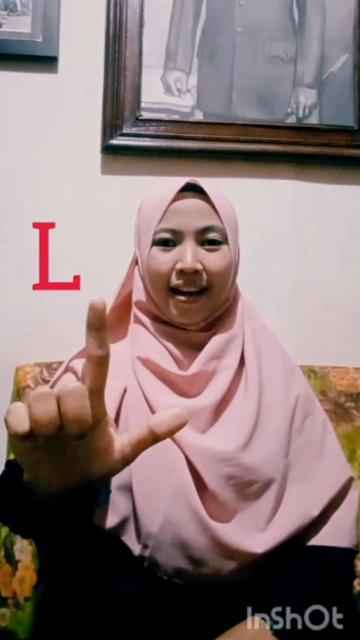L: (4, 296, 192, 496)
